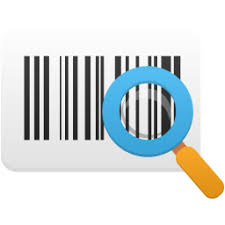searchIcon: (98, 64, 225, 202)
